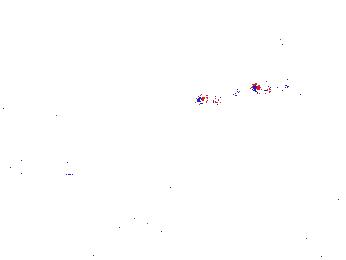glassfish: (201, 135, 308, 206)
red belly glassfish: (193, 85, 243, 107), (249, 80, 288, 97), (268, 32, 293, 53)
